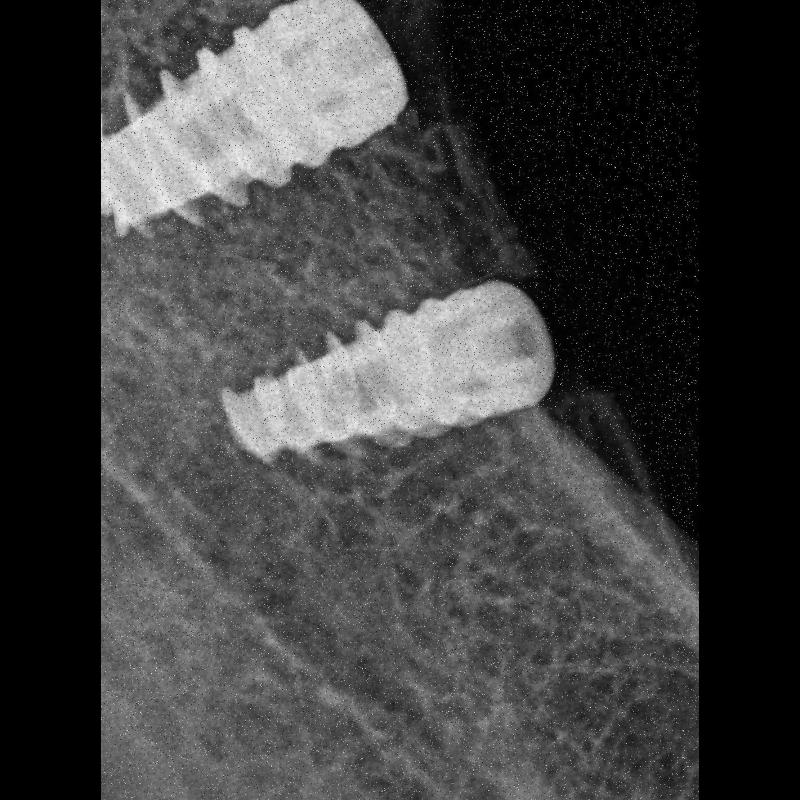ADIN: (212, 261, 568, 489), (101, 0, 424, 246)
